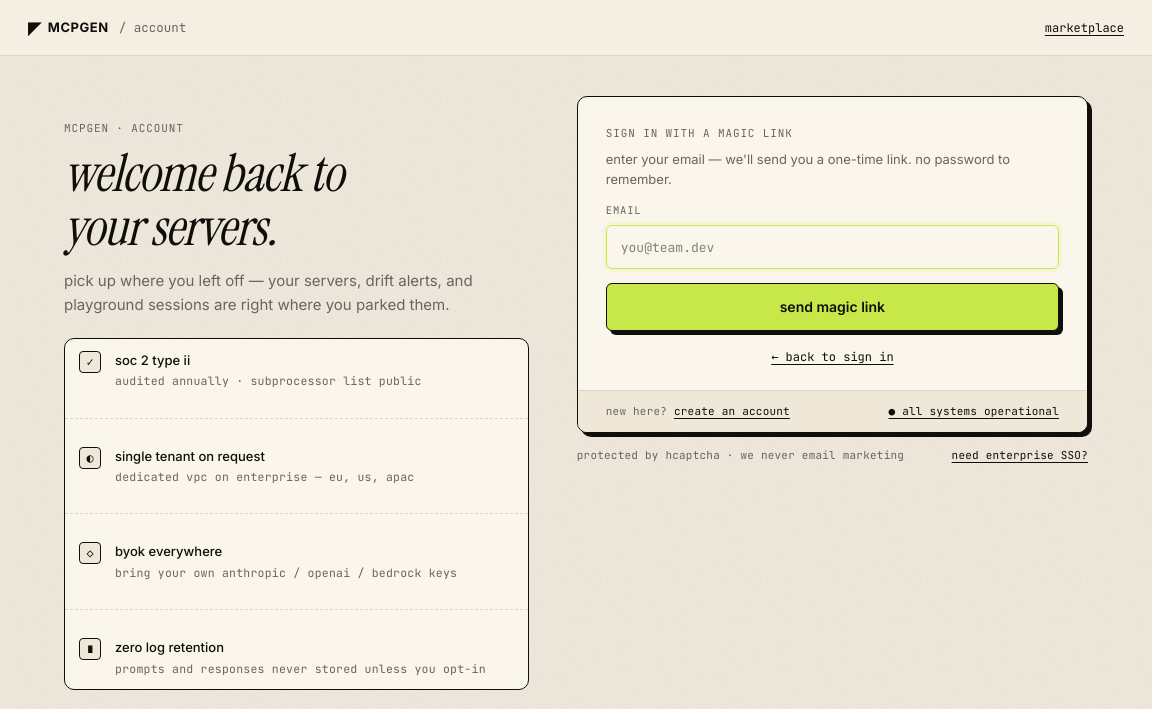
it: <AccountScreen> — email validation › rejects bad email on magic-link submit
Type "@bad" into the field with placeholder "you@team.dev" at coordinates (832, 247), box [606, 225, 1059, 269]
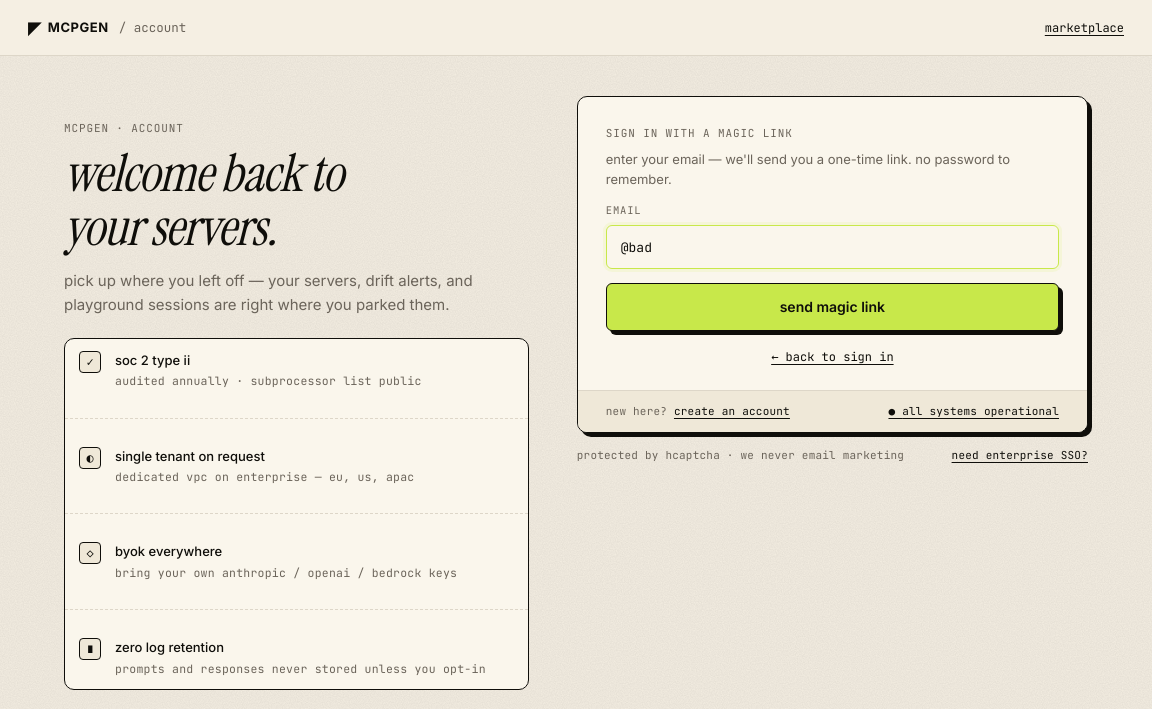
Submit the form, box [606, 123, 1059, 366]
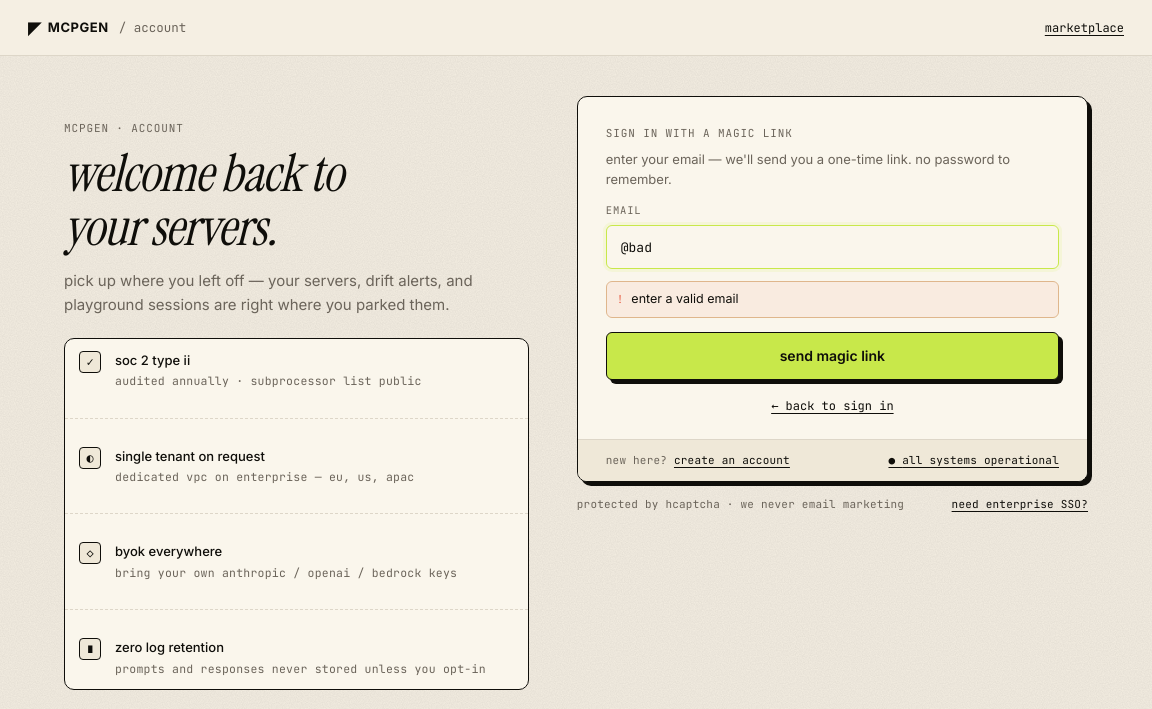
Expected: the message shows "valid email", [631, 291, 739, 306]
